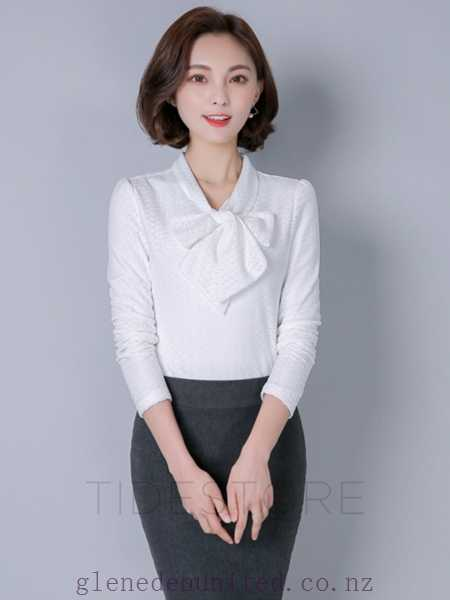F_shirt: (89, 149, 366, 394)
F_tailored skirt: (92, 384, 363, 600)
